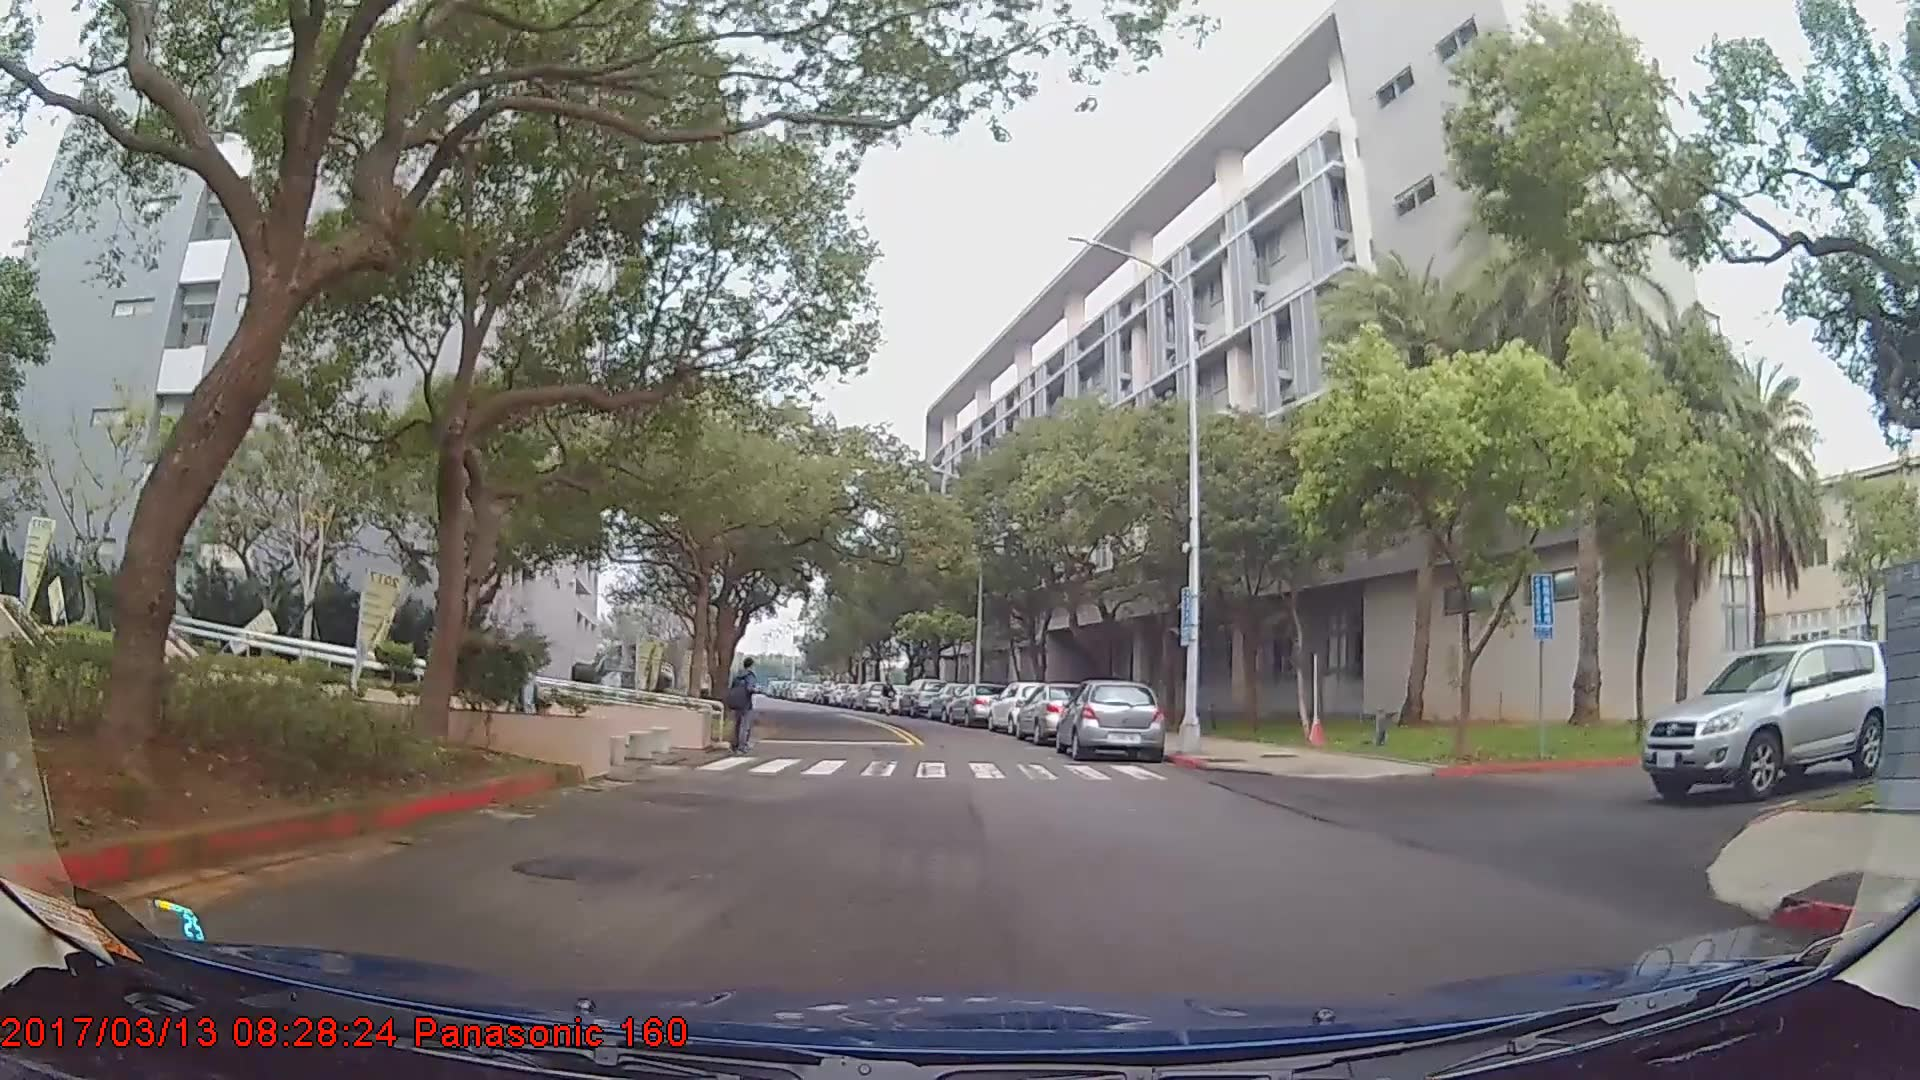pedestrian: (727, 659, 767, 762), (513, 659, 551, 752), (879, 675, 899, 717)
vehicle: (1641, 636, 1889, 801), (1054, 679, 1166, 761), (1013, 682, 1099, 746), (985, 682, 1061, 735), (946, 682, 1009, 729), (897, 678, 945, 717)
